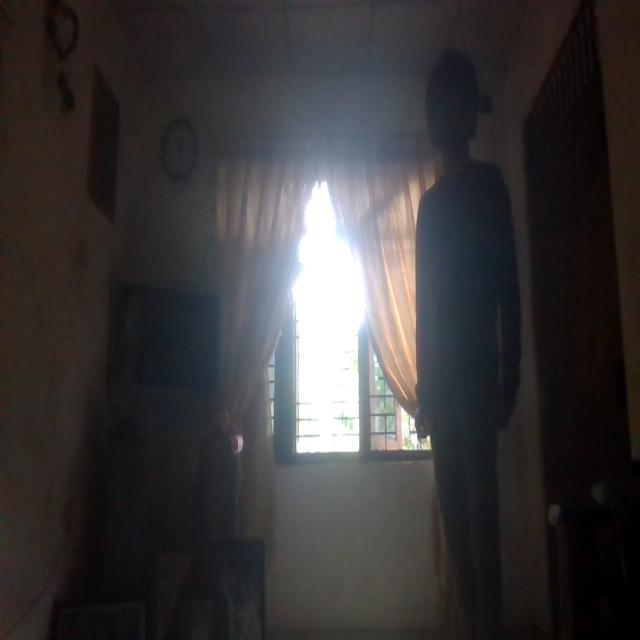Helmet_Wearer: (424, 51, 489, 170)
Person: (414, 51, 524, 634)
